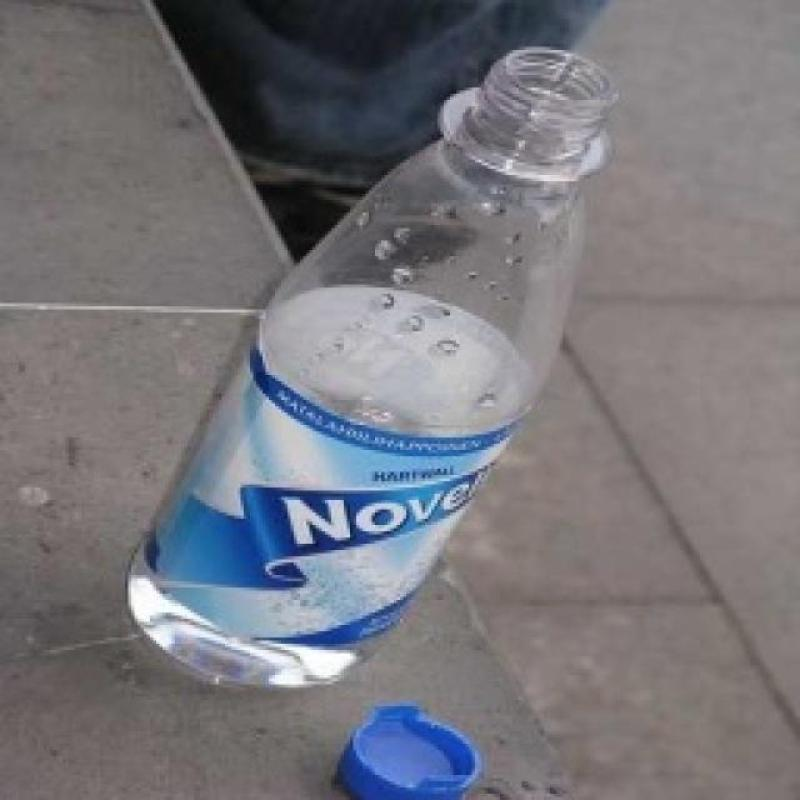botella: (130, 50, 622, 694)
